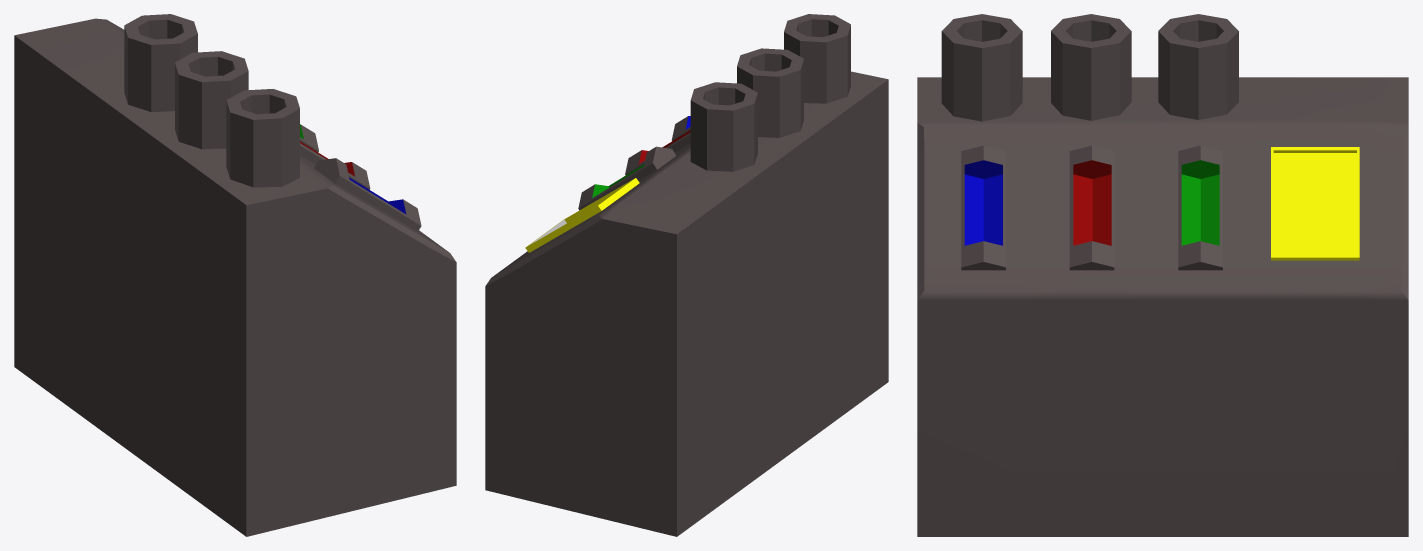
Rendered from generateur_v1.fbx.
The picture shows the model from 3 angles, left to right: view 1: azimuth 30°, elevation 25°; view 2: azimuth 150°, elevation 25°; view 3: azimuth 270°, elevation 25°; orthographic projection. The views are drawn at different scales.
Parts seen in each view (by area): view 1: polySurface7; view 2: polySurface7; view 3: polySurface7.
Part boxes in pixels (left/top/right/bottom): polySurface7: left=14, top=14, right=456, bottom=536; polySurface7: left=485, top=14, right=888, bottom=536; polySurface7: left=917, top=14, right=1408, bottom=536.
Bounding box in the file's own units: 2.82 × 5.11 × 5.4.
